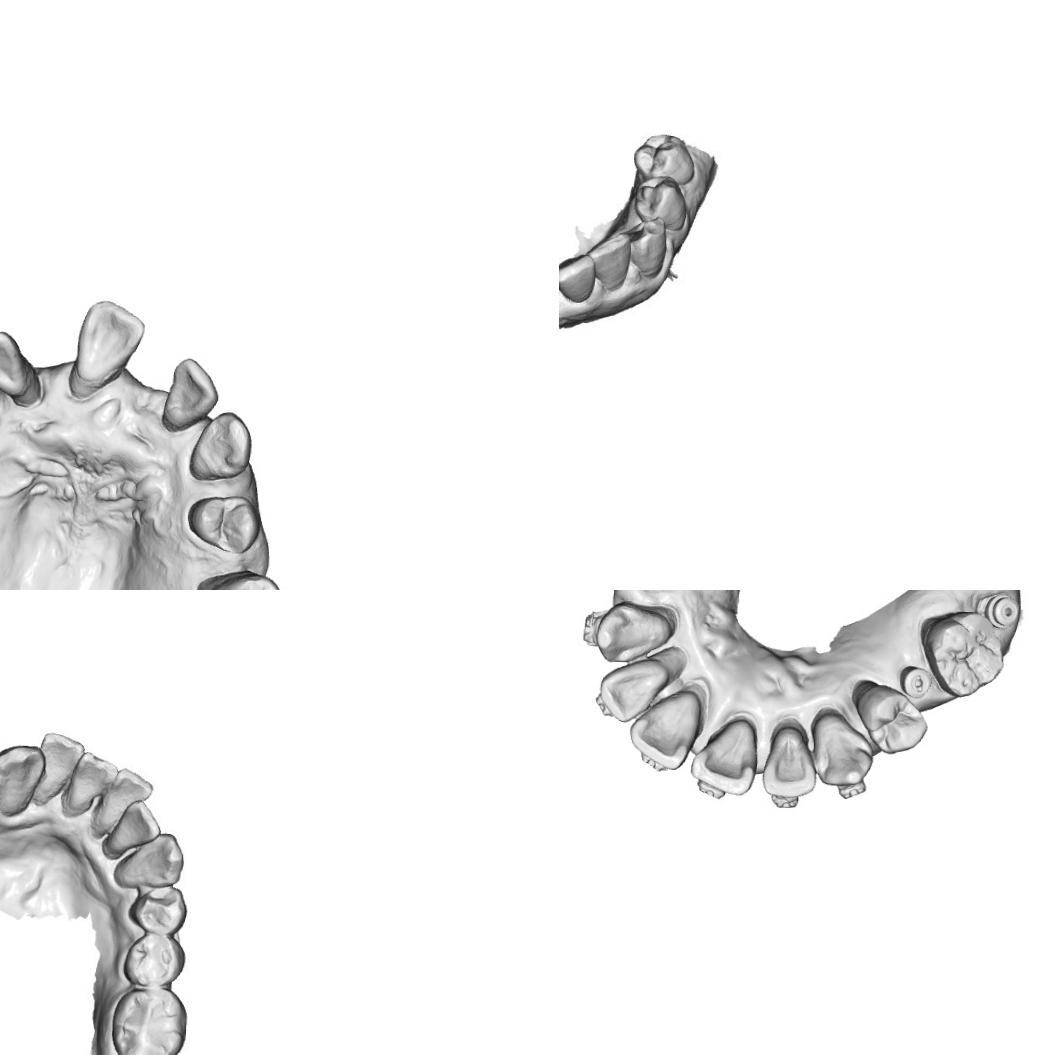canine: (808, 710, 876, 789), (594, 600, 674, 665), (186, 408, 253, 484), (112, 830, 185, 894), (0, 738, 46, 820), (625, 216, 672, 278)
implant: (975, 591, 1024, 630)
implant_minus: (898, 664, 933, 700)
incisor: (71, 297, 148, 384), (626, 689, 700, 773), (688, 718, 760, 798), (593, 655, 673, 724), (759, 724, 820, 802), (94, 766, 154, 839), (161, 356, 220, 426), (36, 730, 86, 802), (104, 798, 162, 860), (66, 747, 117, 812), (0, 328, 29, 395), (596, 238, 633, 288), (559, 254, 597, 302)
molar: (918, 608, 1008, 700), (110, 986, 184, 1055)
premolar: (853, 683, 930, 756), (185, 490, 262, 556), (120, 932, 186, 989), (124, 882, 188, 938), (636, 175, 691, 230), (634, 132, 694, 182), (203, 570, 284, 590)
